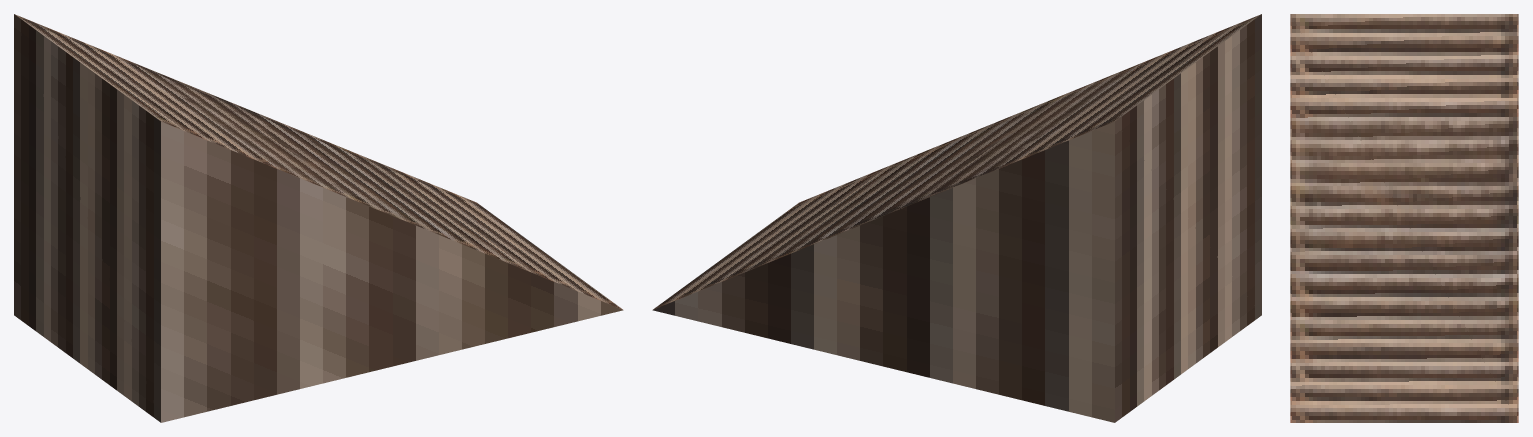
Rendered from Stairs.glb.
3 renders of one model, left to right at view 1: azimuth 30°, elevation 25°; view 2: azimuth 150°, elevation 25°; view 3: azimuth 270°, elevation 25°, orthographic. The views are drawn at different scales.
Parts seen in each view (by area): view 1: Cube; view 2: Cube; view 3: Cube.
Boxes of the visible parts, bbox=[...] form: Cube: bbox=[14, 14, 623, 422]; Cube: bbox=[652, 14, 1261, 422]; Cube: bbox=[1290, 14, 1518, 422].
Size of the model in its own units: 6.09 by 3.79 by 3.35.
1 material, 1 textured.
